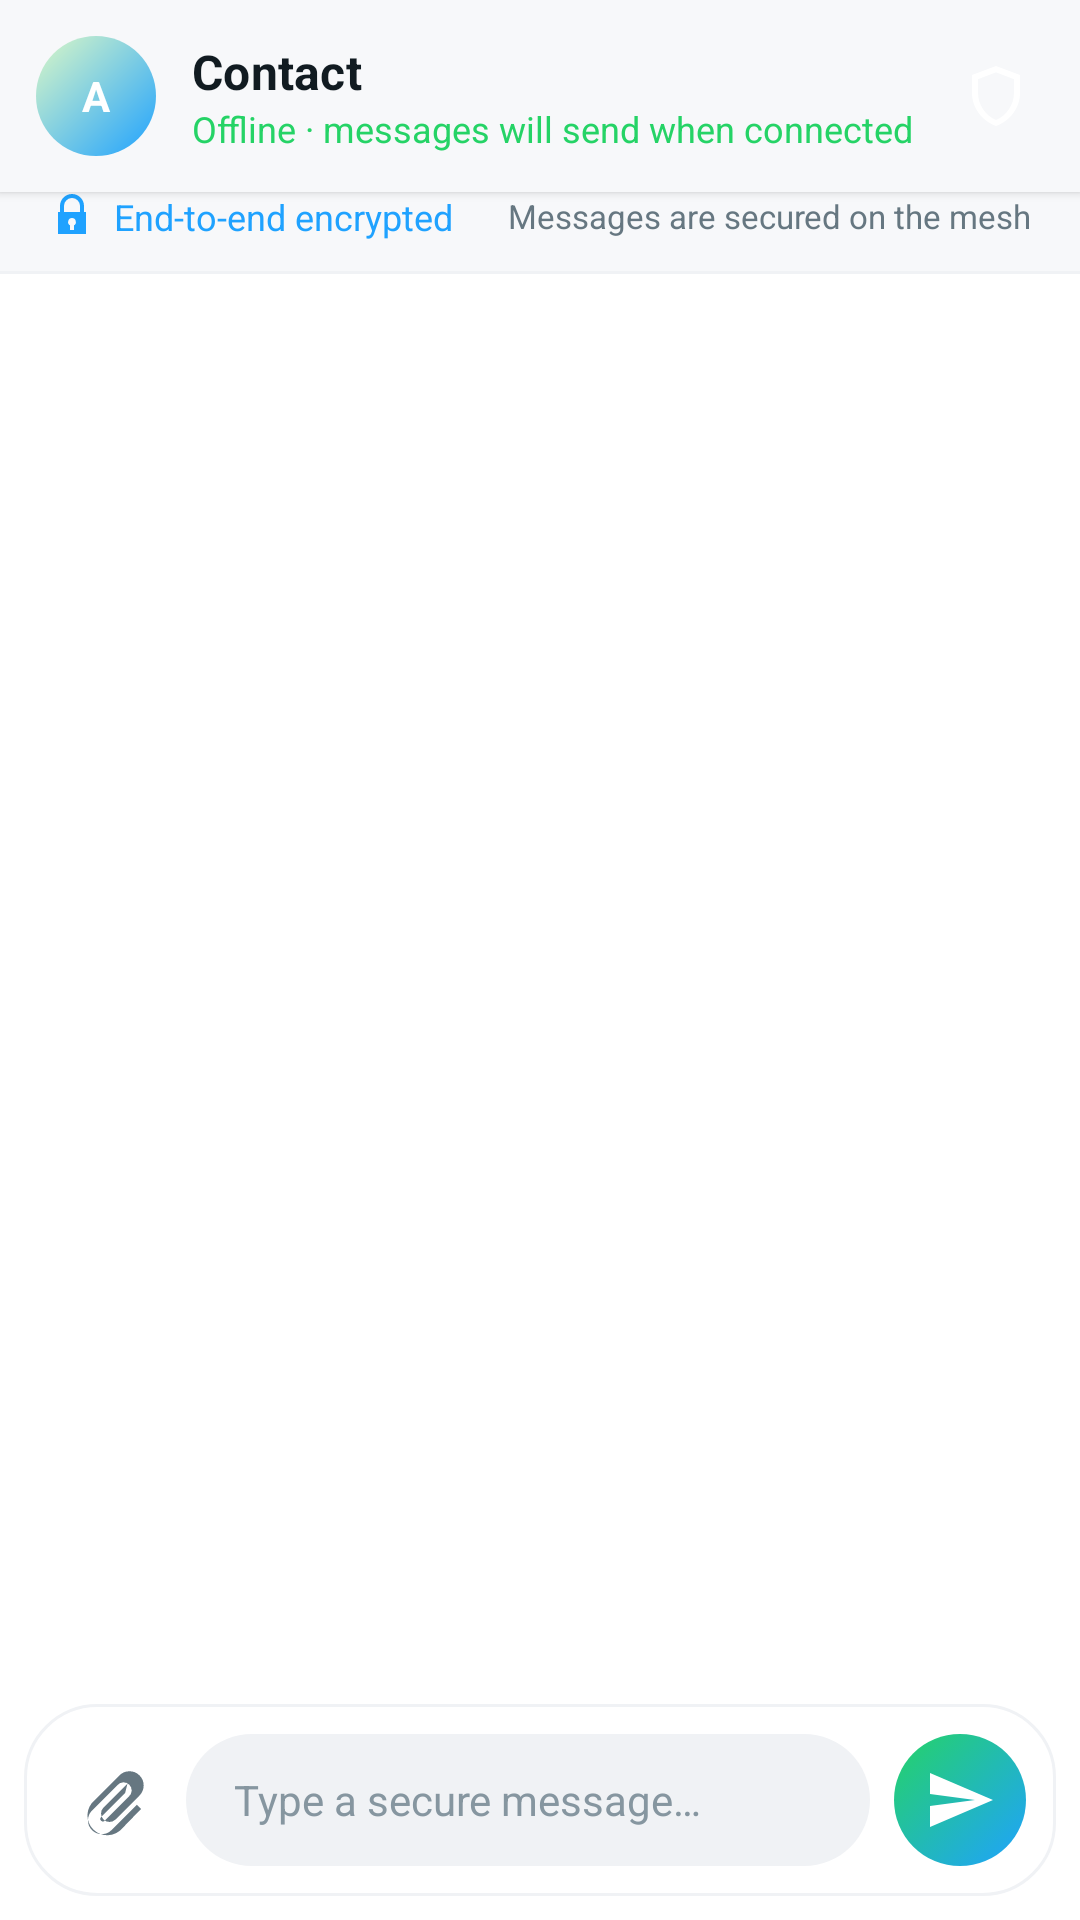

Point at icon controls on the screen. Image size 1080 × 1920, points as [x,y].
Attach: [115,1803]
lock: [72,214]
Send: [960,1800]
